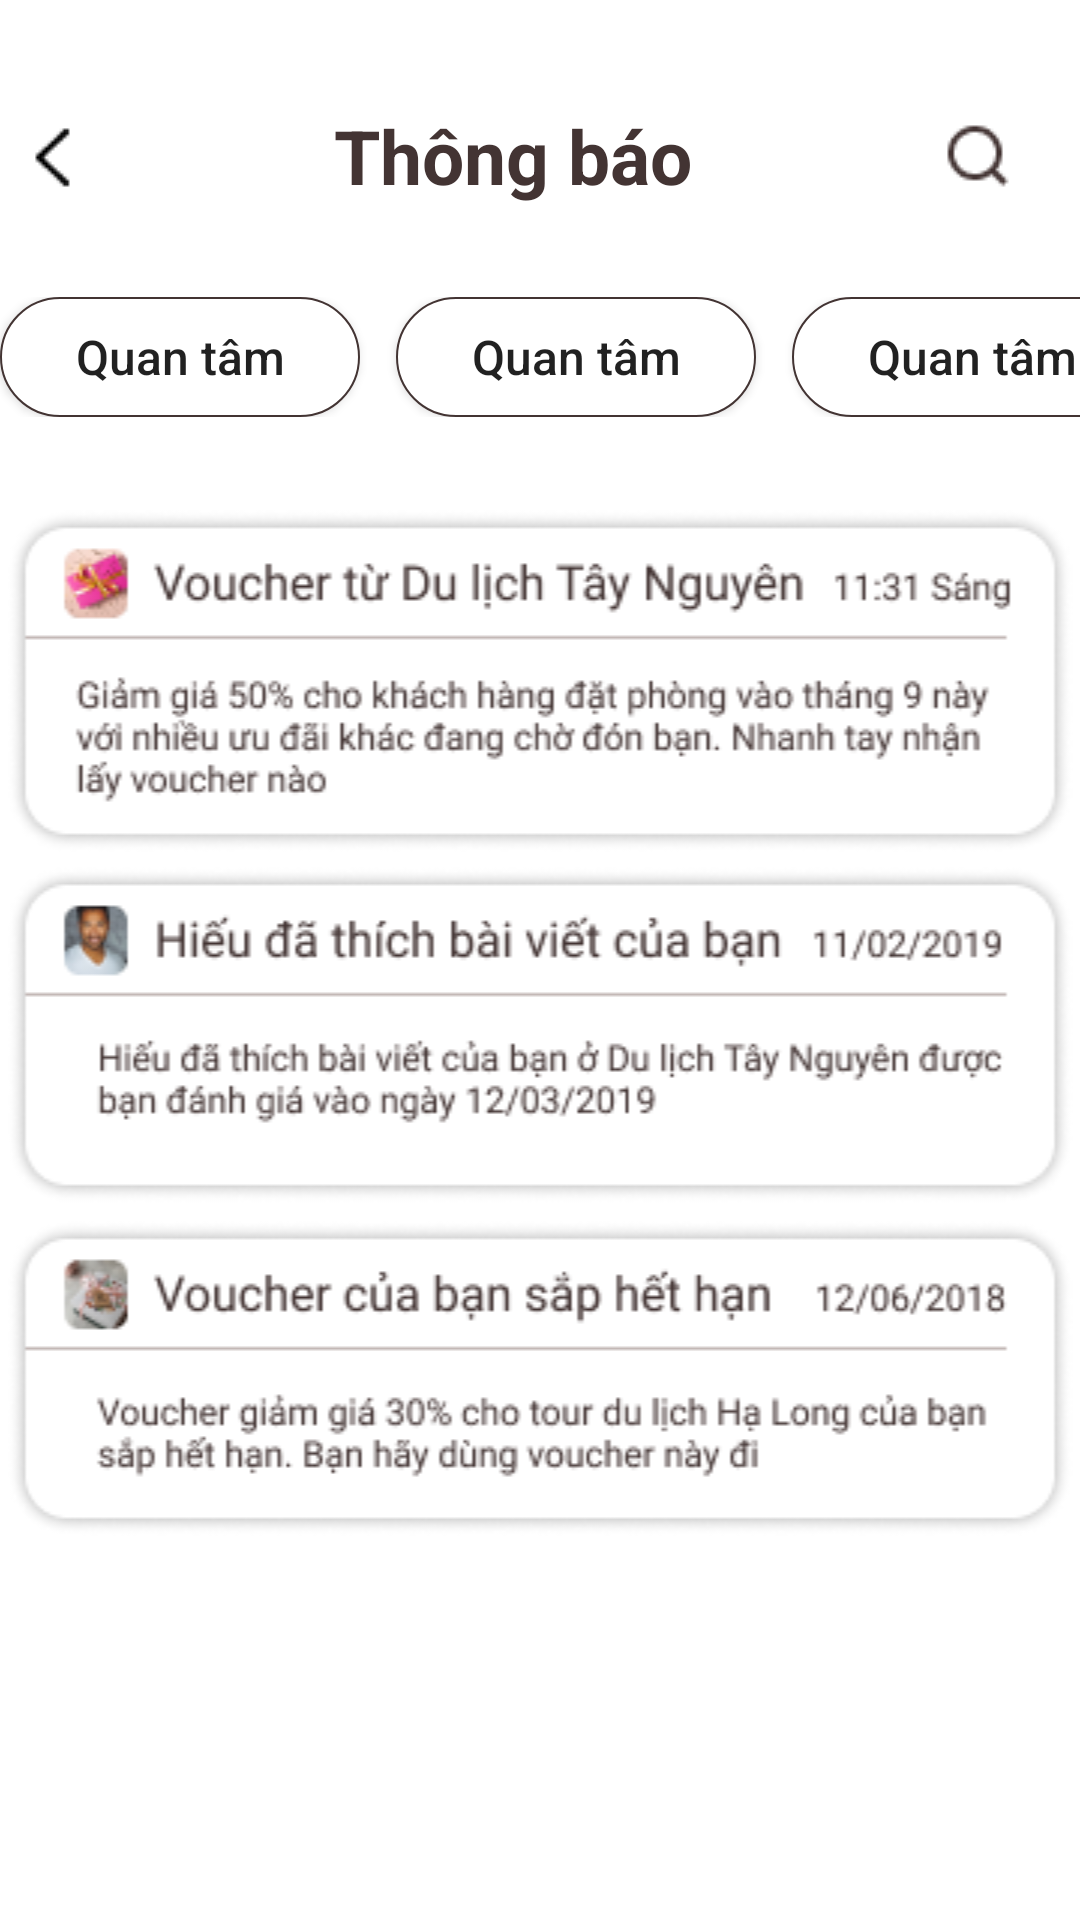

Named icons in this screenshot (1080×1920) and their centers, (x,y):
back: (52,157)
search: (978,156)
